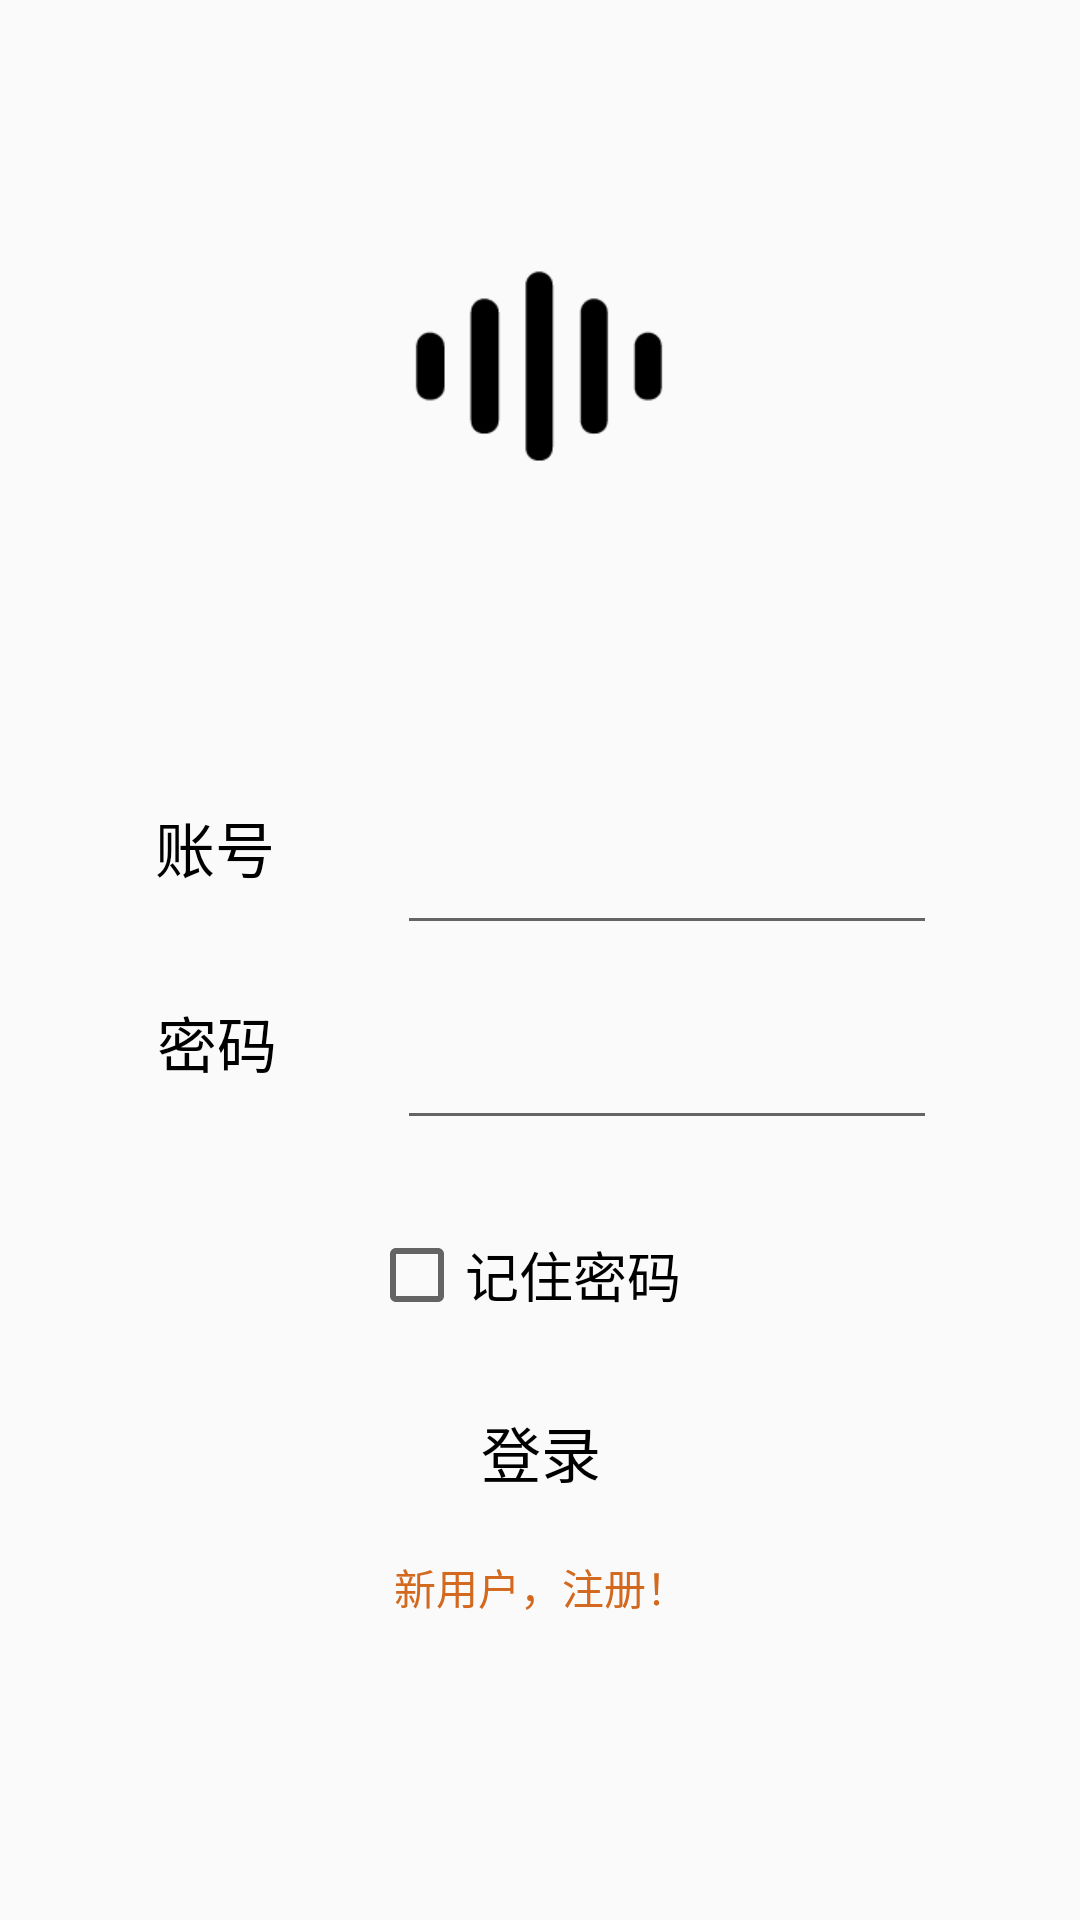

Where to tap for icons on this 1080×1920 app screen, as (x,y):
iconfont voice: (539,366)
